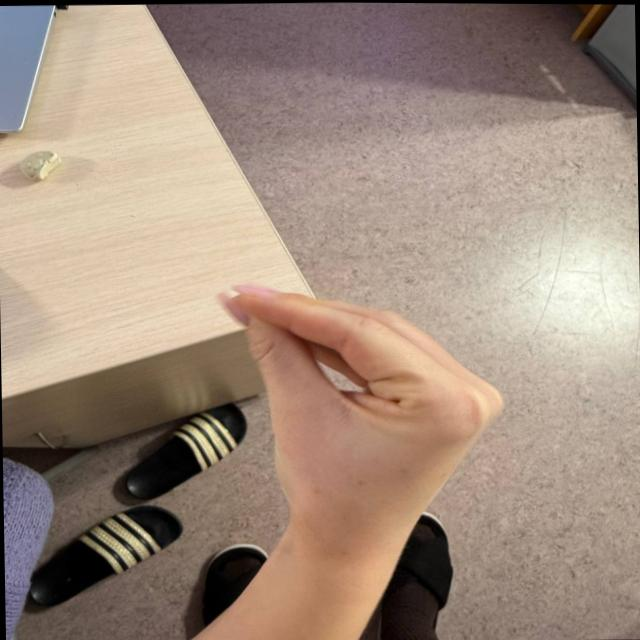zh: (207, 247, 534, 573)
